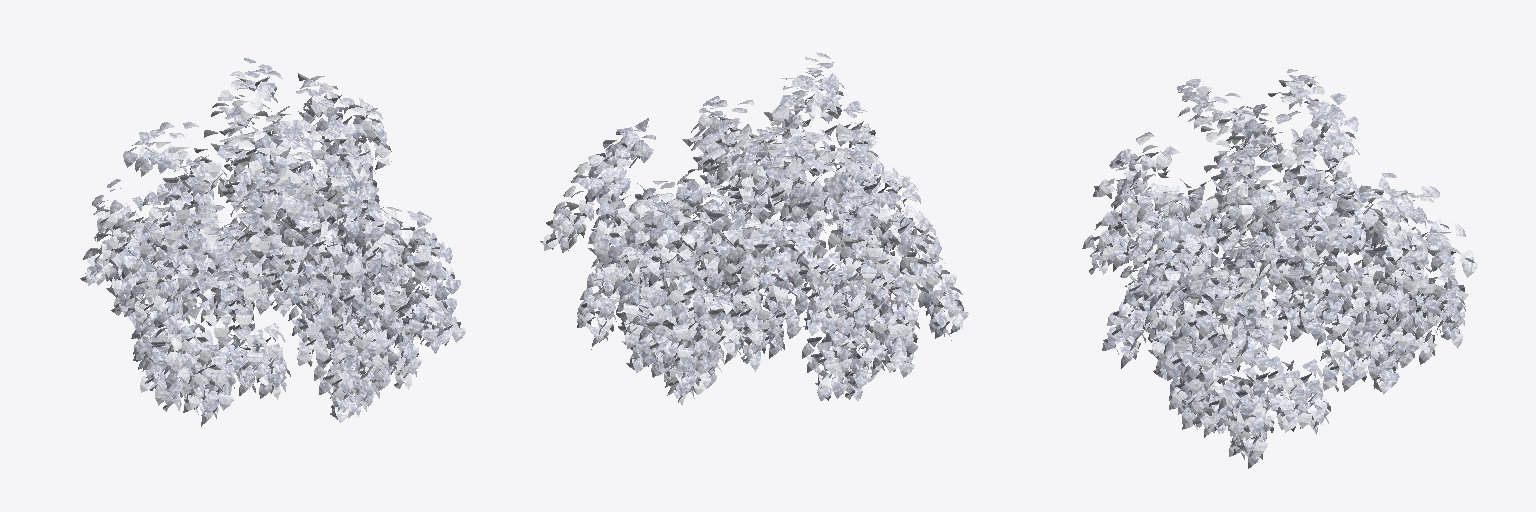
The picture shows the model from 3 angles: view 1: azimuth 30°, elevation 25°; view 2: azimuth 150°, elevation 25°; view 3: azimuth 270°, elevation 25°; orthographic projection.
Parts seen in each view (by area): view 1: sub02.001; view 2: sub02.001; view 3: sub02.001.
Part boxes in pixels (x1,y1,x2,y2): sub02.001: (80, 58, 465, 426); sub02.001: (540, 52, 968, 404); sub02.001: (1082, 69, 1477, 468).
Size of the model in its own units: 2.08 by 1.95 by 2.05.
1 materials, 1 textured.